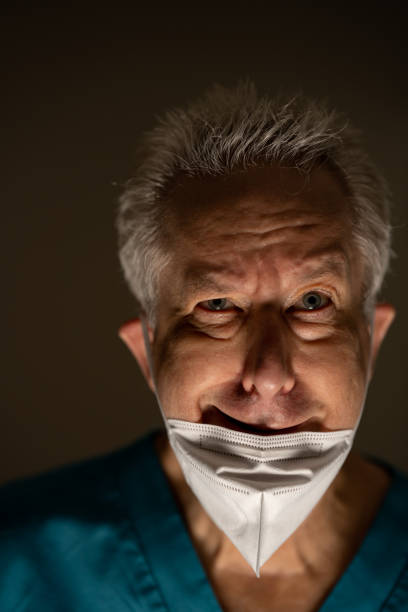mask_weared_incorrect: (131, 88, 383, 566)
